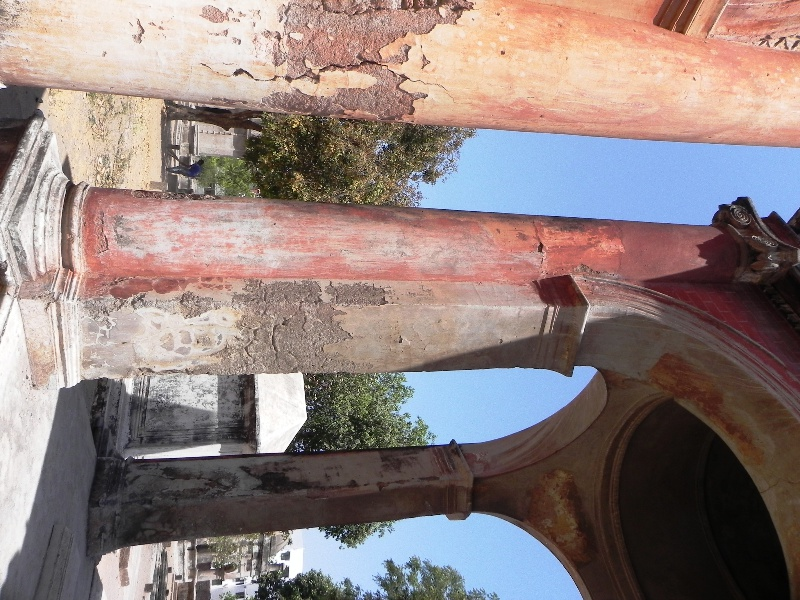Crack: (204, 62, 442, 89)
Spalling: (220, 279, 393, 372), (271, 5, 487, 55)
